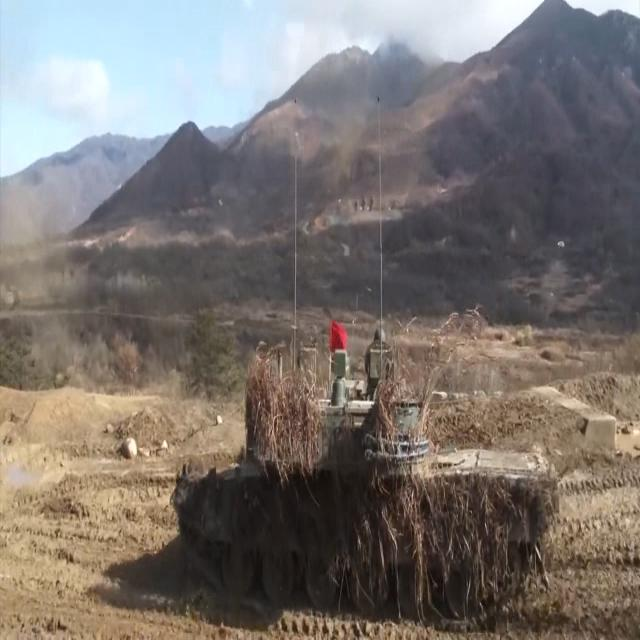korea tank: (174, 328, 560, 619)
